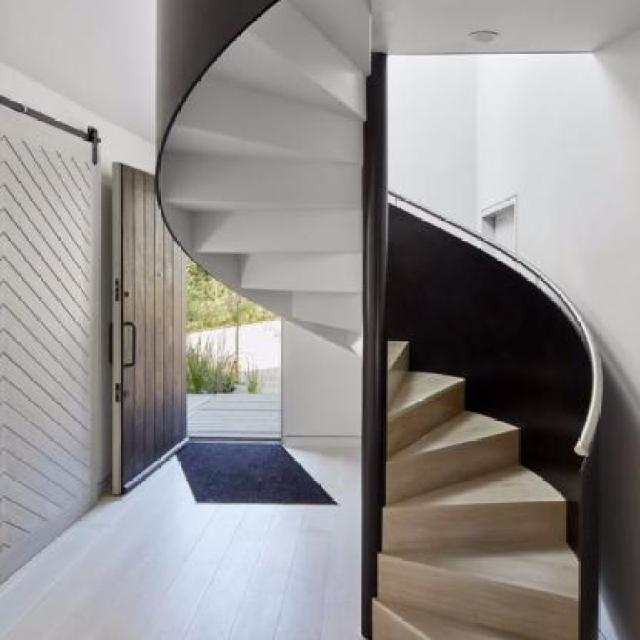stair: (139, 0, 638, 638)
